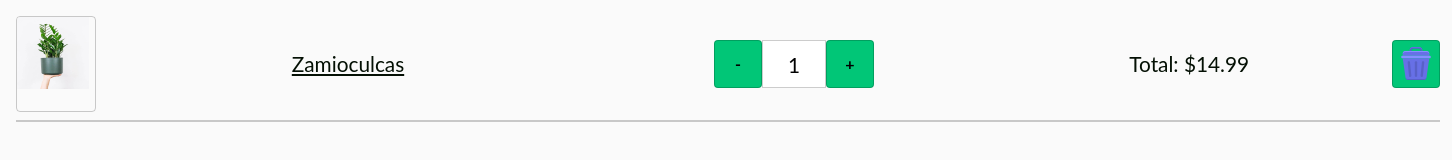
test the Product component › increments product's quantity in the basket correctly
Click the button "+".
click(850, 64)  # box [826, 40, 874, 88]
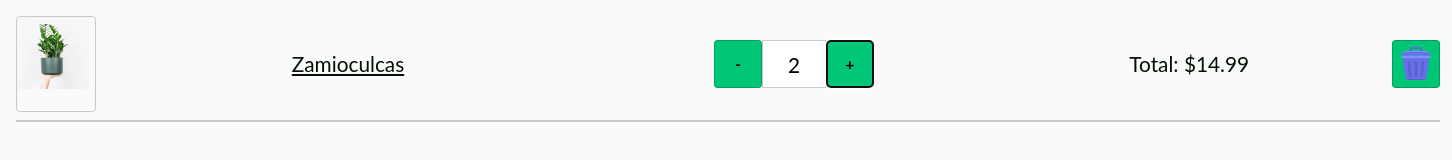
Click the button "+".
click(850, 64)  # box [826, 40, 874, 88]
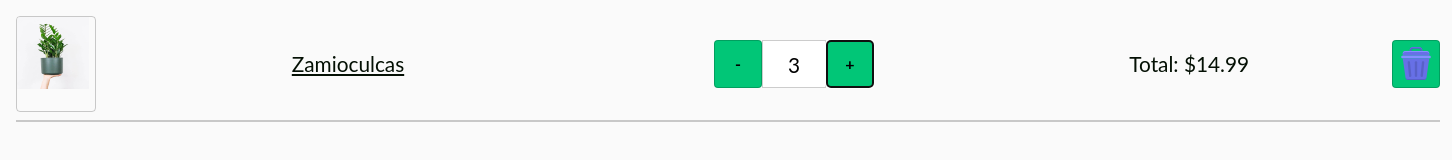
Expected: the number field holds "3", [762, 40, 826, 88]
